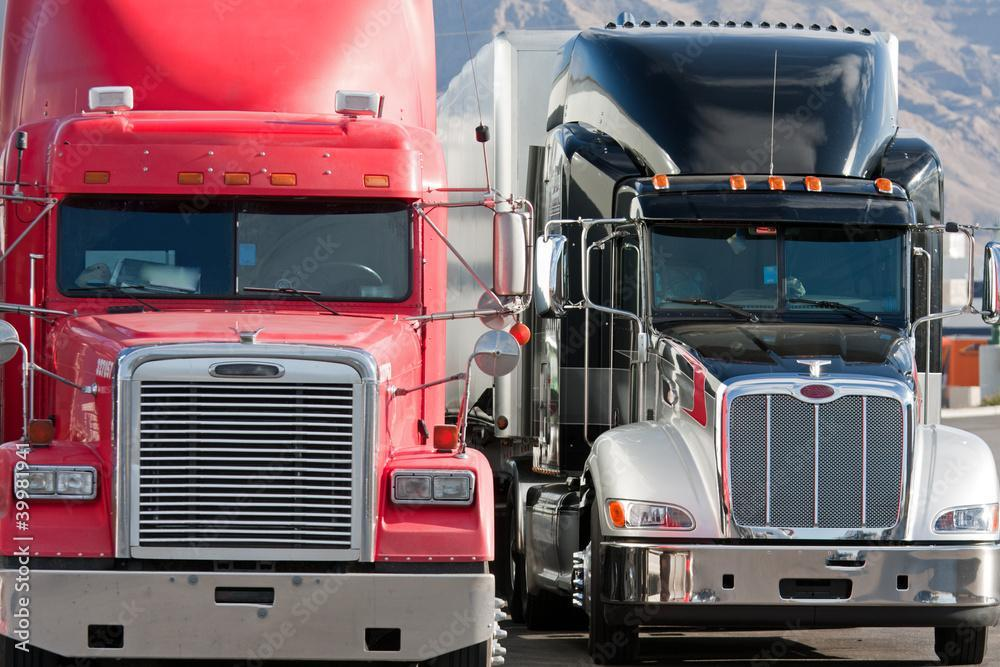truck: (0, 0, 542, 663)
